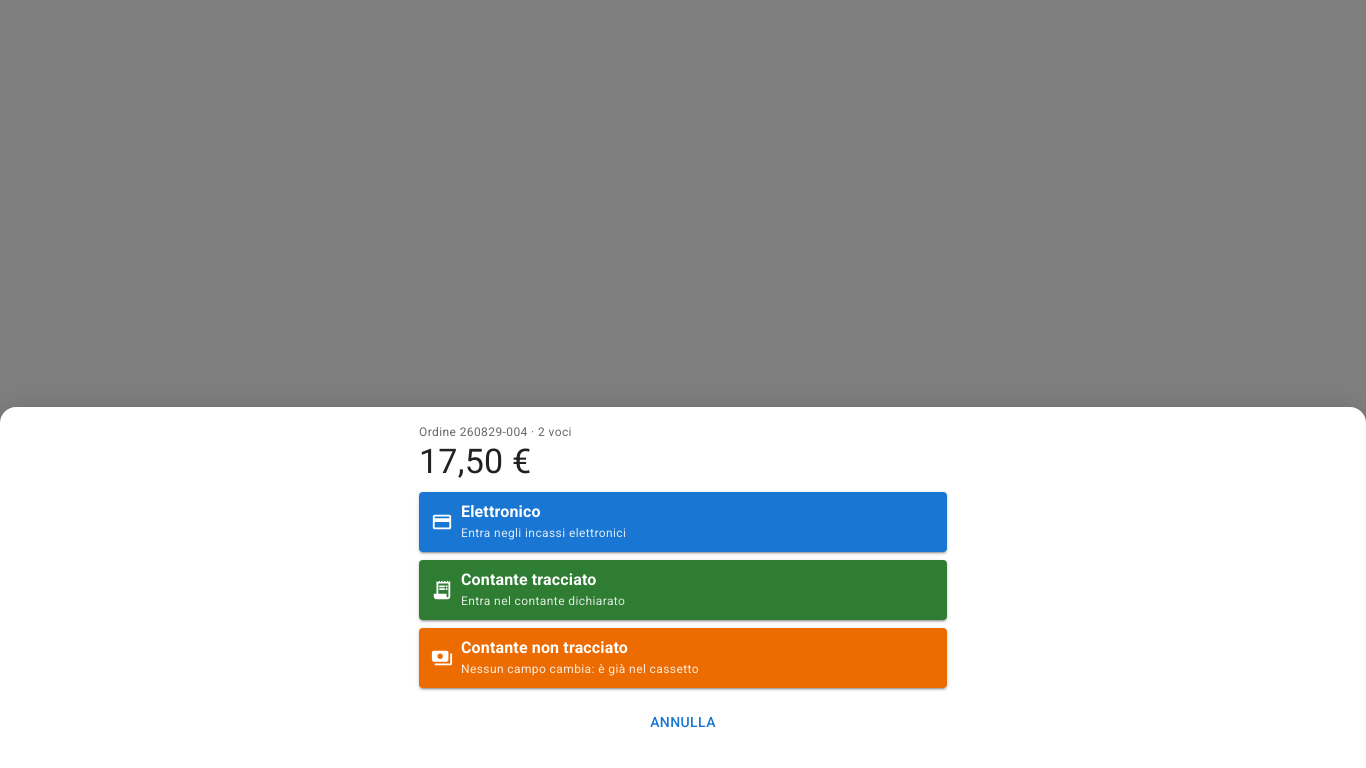
Test case: ChiusuraOrdine › con un metodo in contanti apre il tastierino invece di confermare
Click the text "Contante tracciato": (529, 580) [461,568,596,592]
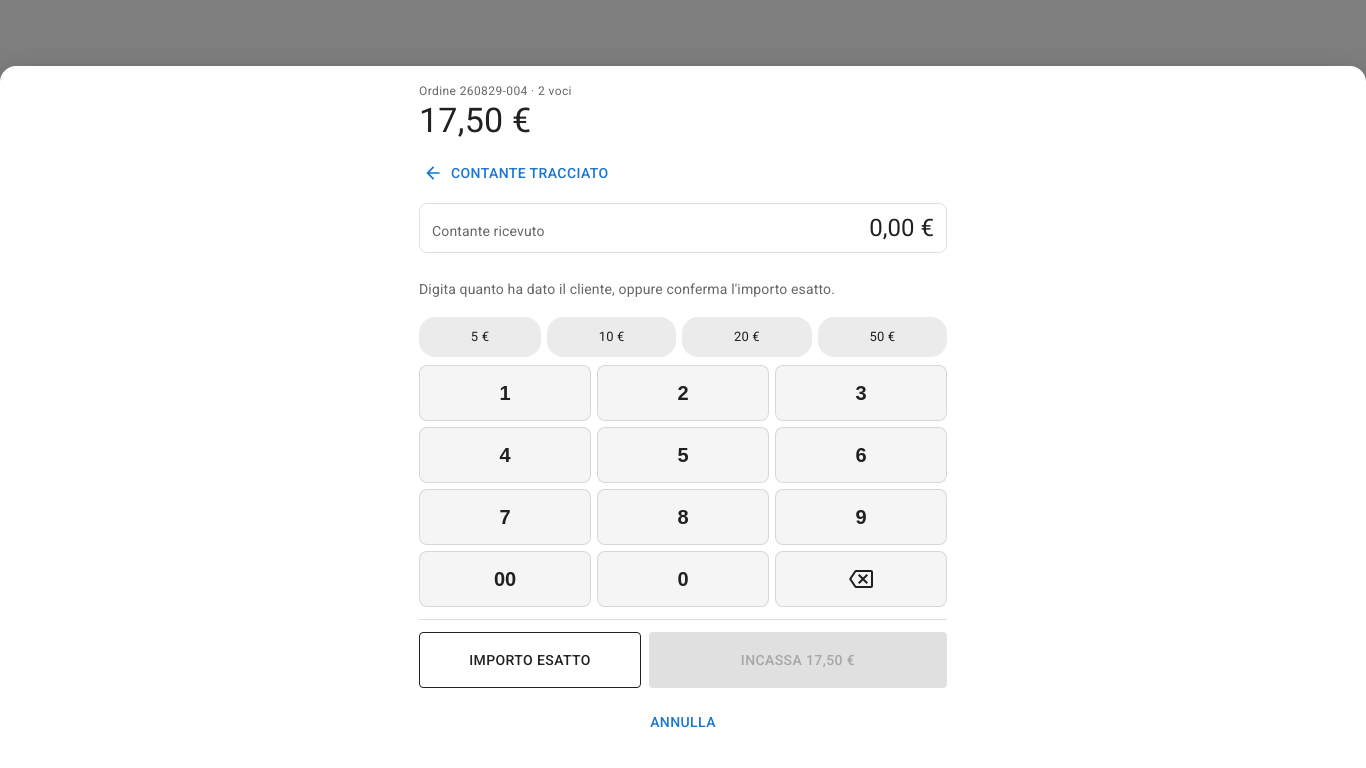
Result: the text "Contante ricevuto" is shown at [432,221,544,241]
Result: the button named "Cifra 5" is shown at [597,427,769,483]
